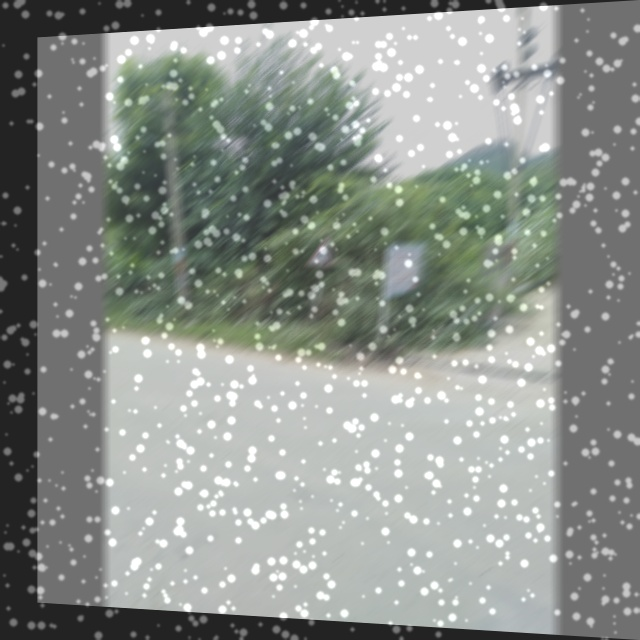Left_Hand_Curve: (308, 233, 339, 268)
